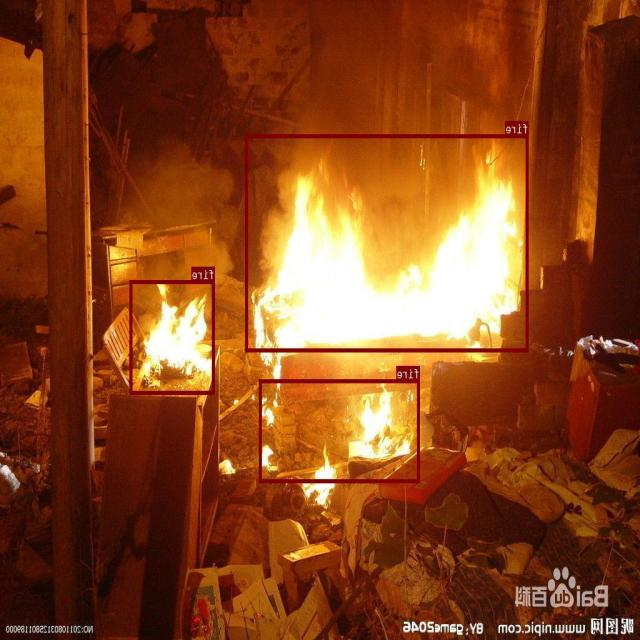fire: (246, 134, 529, 351), (260, 379, 420, 482), (131, 279, 215, 394)
